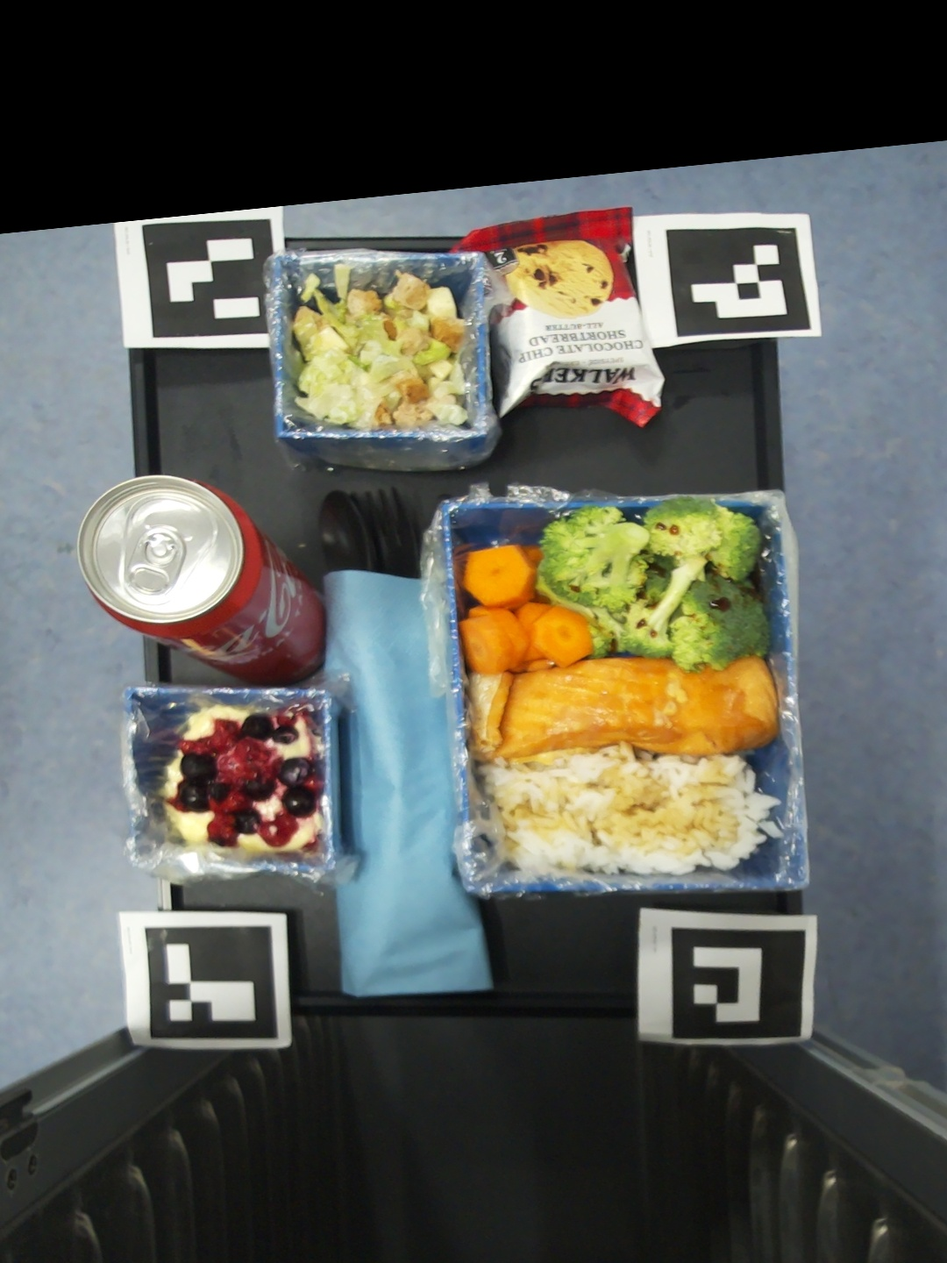broccoli: (536, 495, 770, 673)
carrots: (459, 544, 594, 672)
cola: (79, 474, 326, 686)
cookie: (450, 207, 665, 427)
fish_salmon: (470, 656, 781, 760)
rice: (478, 742, 783, 876)
side_salad: (293, 263, 473, 429)
vanilla_pudding_with_fruits: (159, 703, 325, 850)
